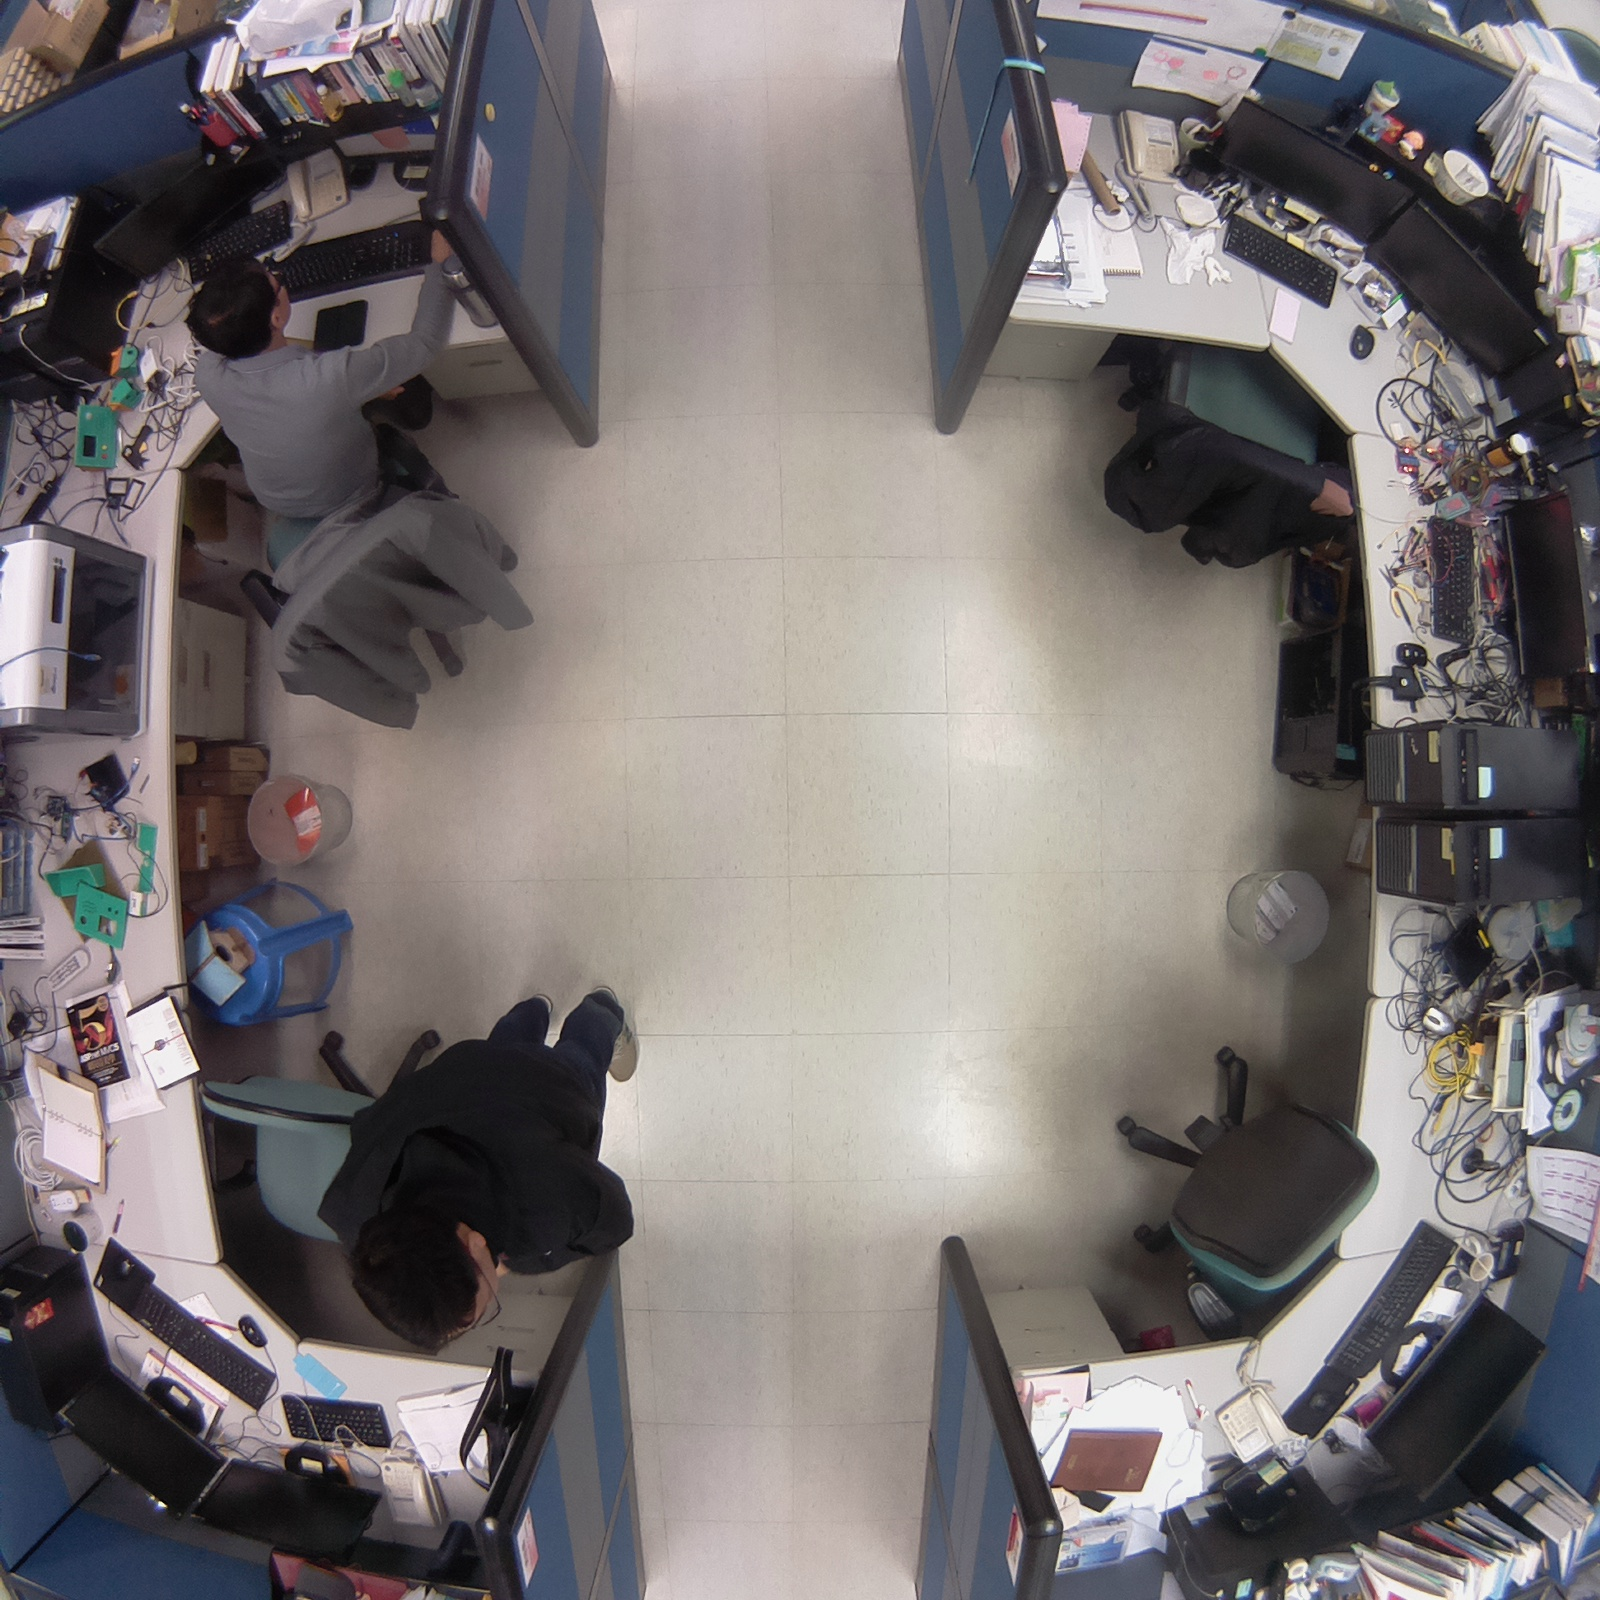chair: (1076, 1034, 1394, 1352), (1086, 322, 1370, 583)
head: (344, 1197, 510, 1357), (183, 246, 295, 359)
sitting: (182, 247, 553, 763)
standing: (313, 965, 673, 1354)
